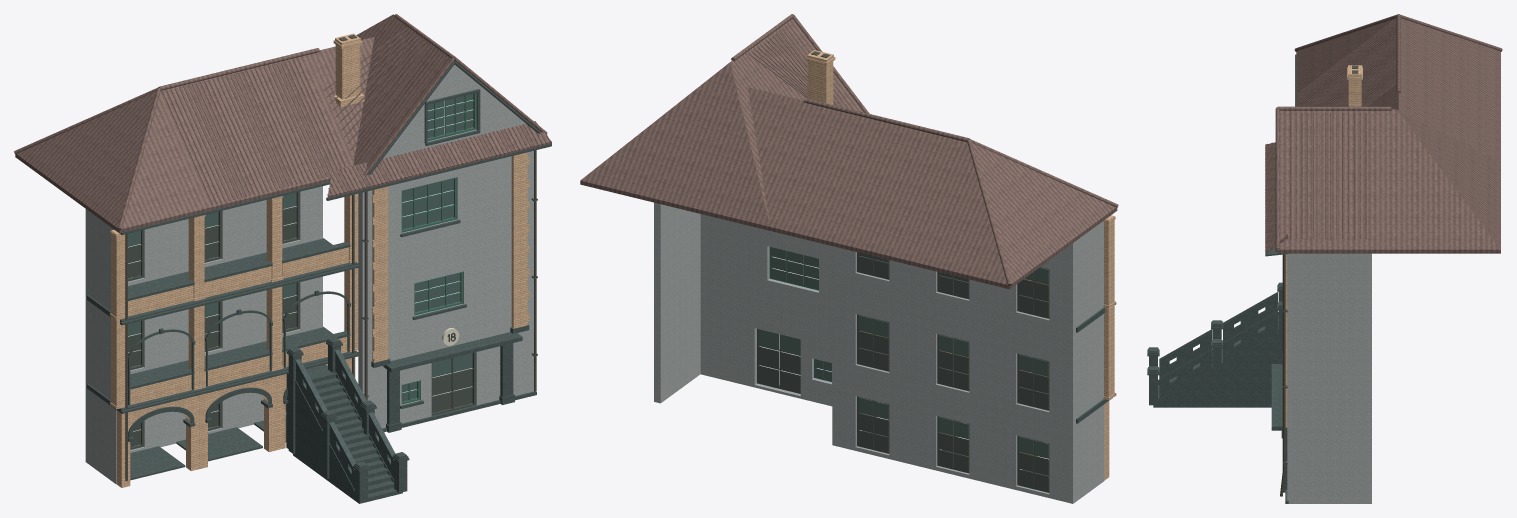
The model's file is changning-yuyuan-1294-dong-zhujun-garden-residence-raw.glb.
3 renders of one model, left to right at view 1: azimuth 30°, elevation 25°; view 2: azimuth 150°, elevation 25°; view 3: azimuth 270°, elevation 25°, orthographic. The views are drawn at different scales.
Visible parts, largest first — view 1: 董竹君旧居18号楼南面券廊与题号山墙; view 2: 董竹君旧居18号楼南面券廊与题号山墙; view 3: 董竹君旧居18号楼南面券廊与题号山墙.
Boxes of the visible parts, box(x1,y1,x2,y2) form: 董竹君旧居18号楼南面券廊与题号山墙: box(14, 14, 551, 503); 董竹君旧居18号楼南面券廊与题号山墙: box(580, 14, 1118, 503); 董竹君旧居18号楼南面券廊与题号山墙: box(1147, 14, 1502, 503).
Size of the model in its own units: 17.89 by 15.03 by 13.39.
Materials: 10 (4 with a texture image).
